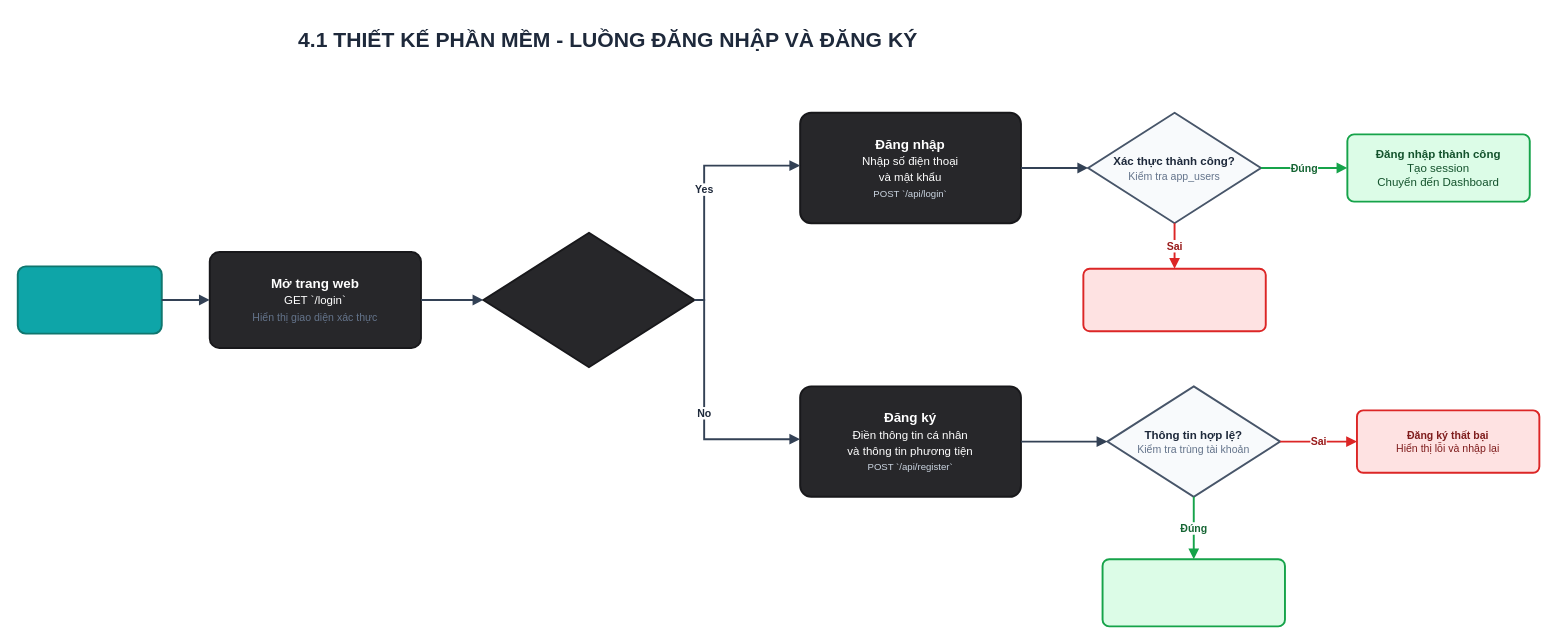
Some shapes in this 1556 by 643 pixel diagram are drawn without their labels. The shapes that lost their labels are listed below. From the top down, each one's centre as x and y in pixels, then its label:
the point at 89,299: START
the point at 588,299: Người dùng đã có tài khoản?
the point at 1174,299: Đăng nhập thất bại Hiển thị lỗi và nhập lại
the point at 1193,592: Đăng ký thành công Lưu tài khoản Chuyển đến `/login`
